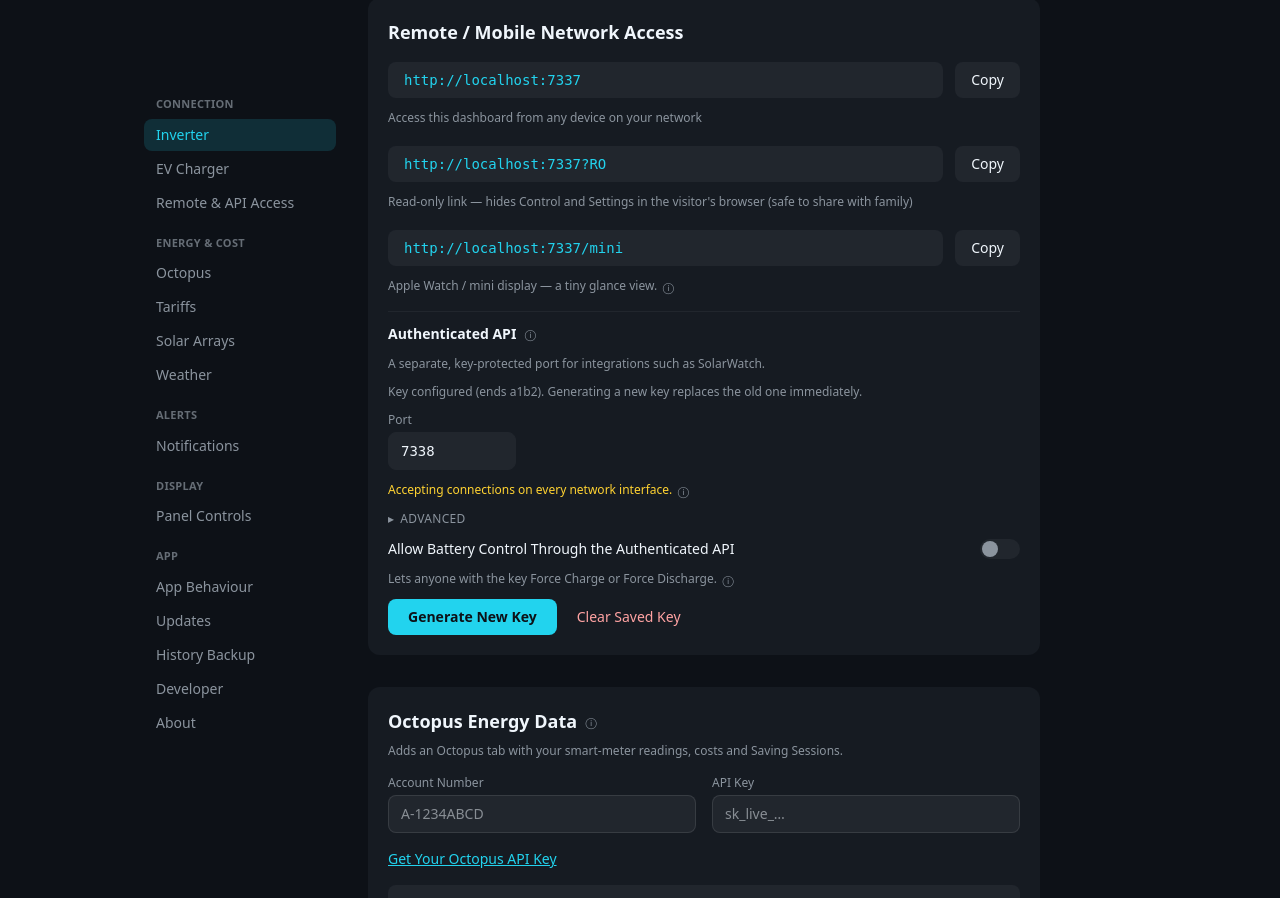
Test: <SettingsPage/> — clearing the API key › refuses a blank port rather than posting one
(page scrolled)
Clear the number field labelled "Port" at (452, 451), box [388,432,516,470]
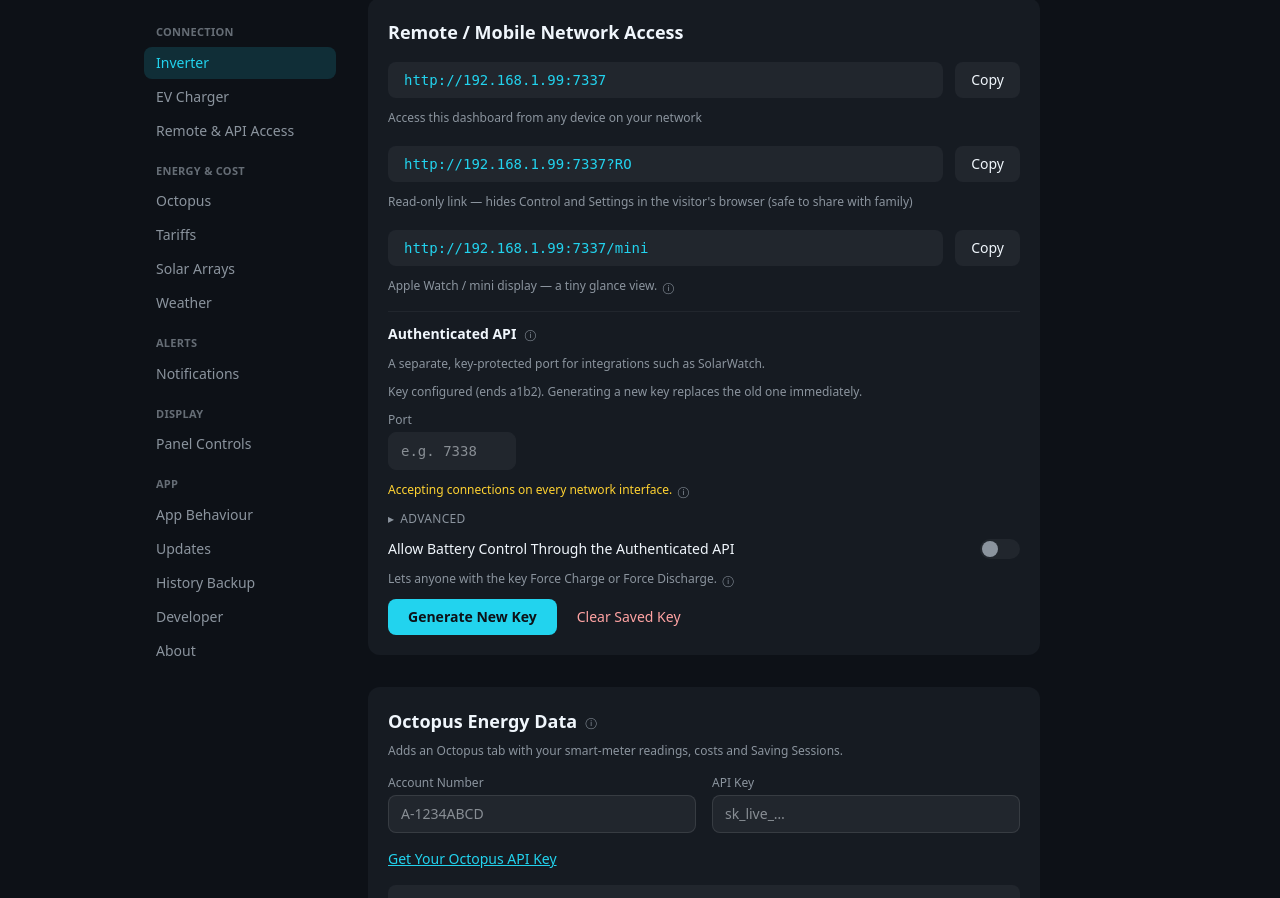
Click the button "Clear Saved Key" at (629, 617), box [569,599,689,635]
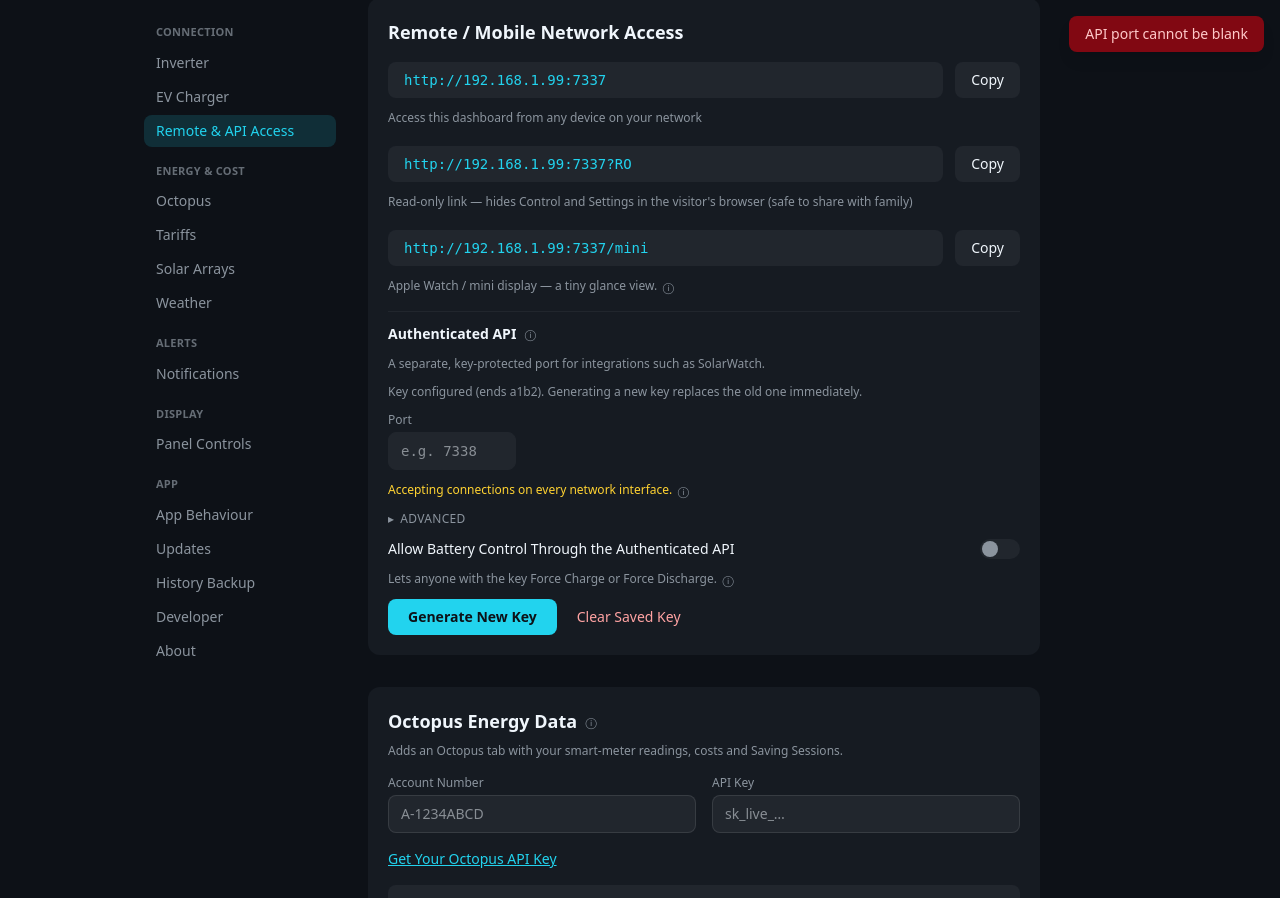
Expected: the text "API port cannot be blank" is shown, [1069,16,1264,52]
